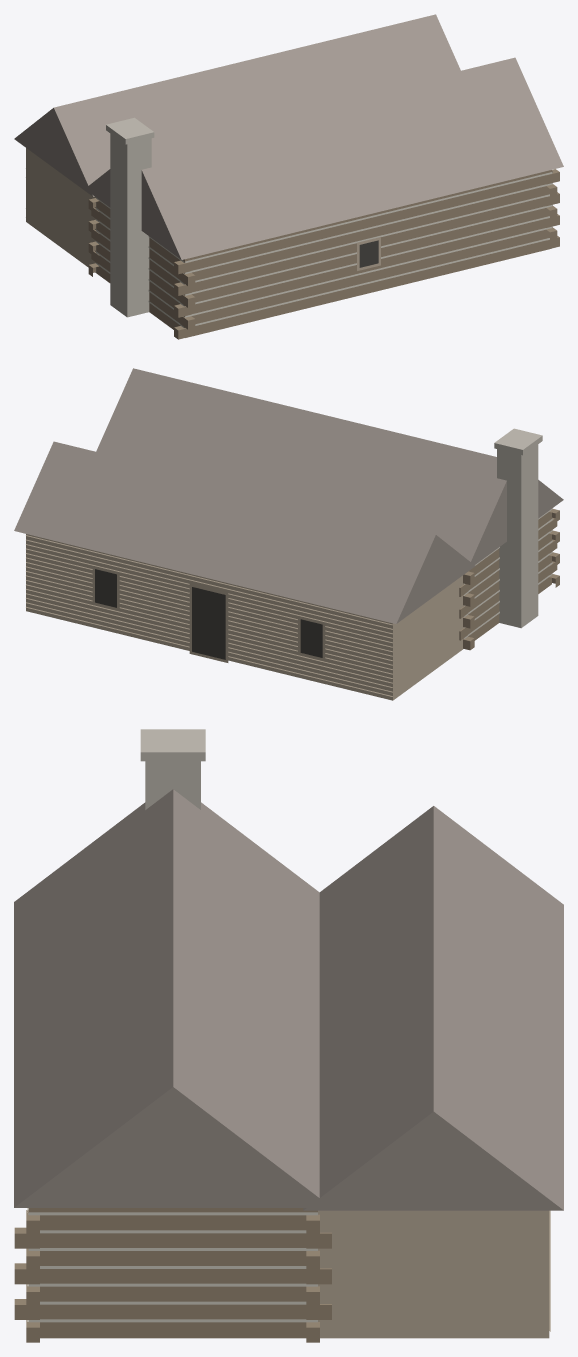
File: mansion_house__log_frame_1833.glb
3 views of the same model, one above another, from view 1: azimuth 30°, elevation 25°; view 2: azimuth 150°, elevation 25°; view 3: azimuth 270°, elevation 25° (orthographic). The views are drawn at different scales.
Parts seen in each view (by area): view 1: mansion_house__log_frame_1833; view 2: mansion_house__log_frame_1833; view 3: mansion_house__log_frame_1833.
Part boxes in pixels (x1=…): mansion_house__log_frame_1833: x1=14, y1=14, x2=563, y2=339; mansion_house__log_frame_1833: x1=14, y1=368, x2=563, y2=700; mansion_house__log_frame_1833: x1=14, y1=729, x2=563, y2=1342.
Size of the model in its own units: 13.07 by 5.69 by 9.5.
